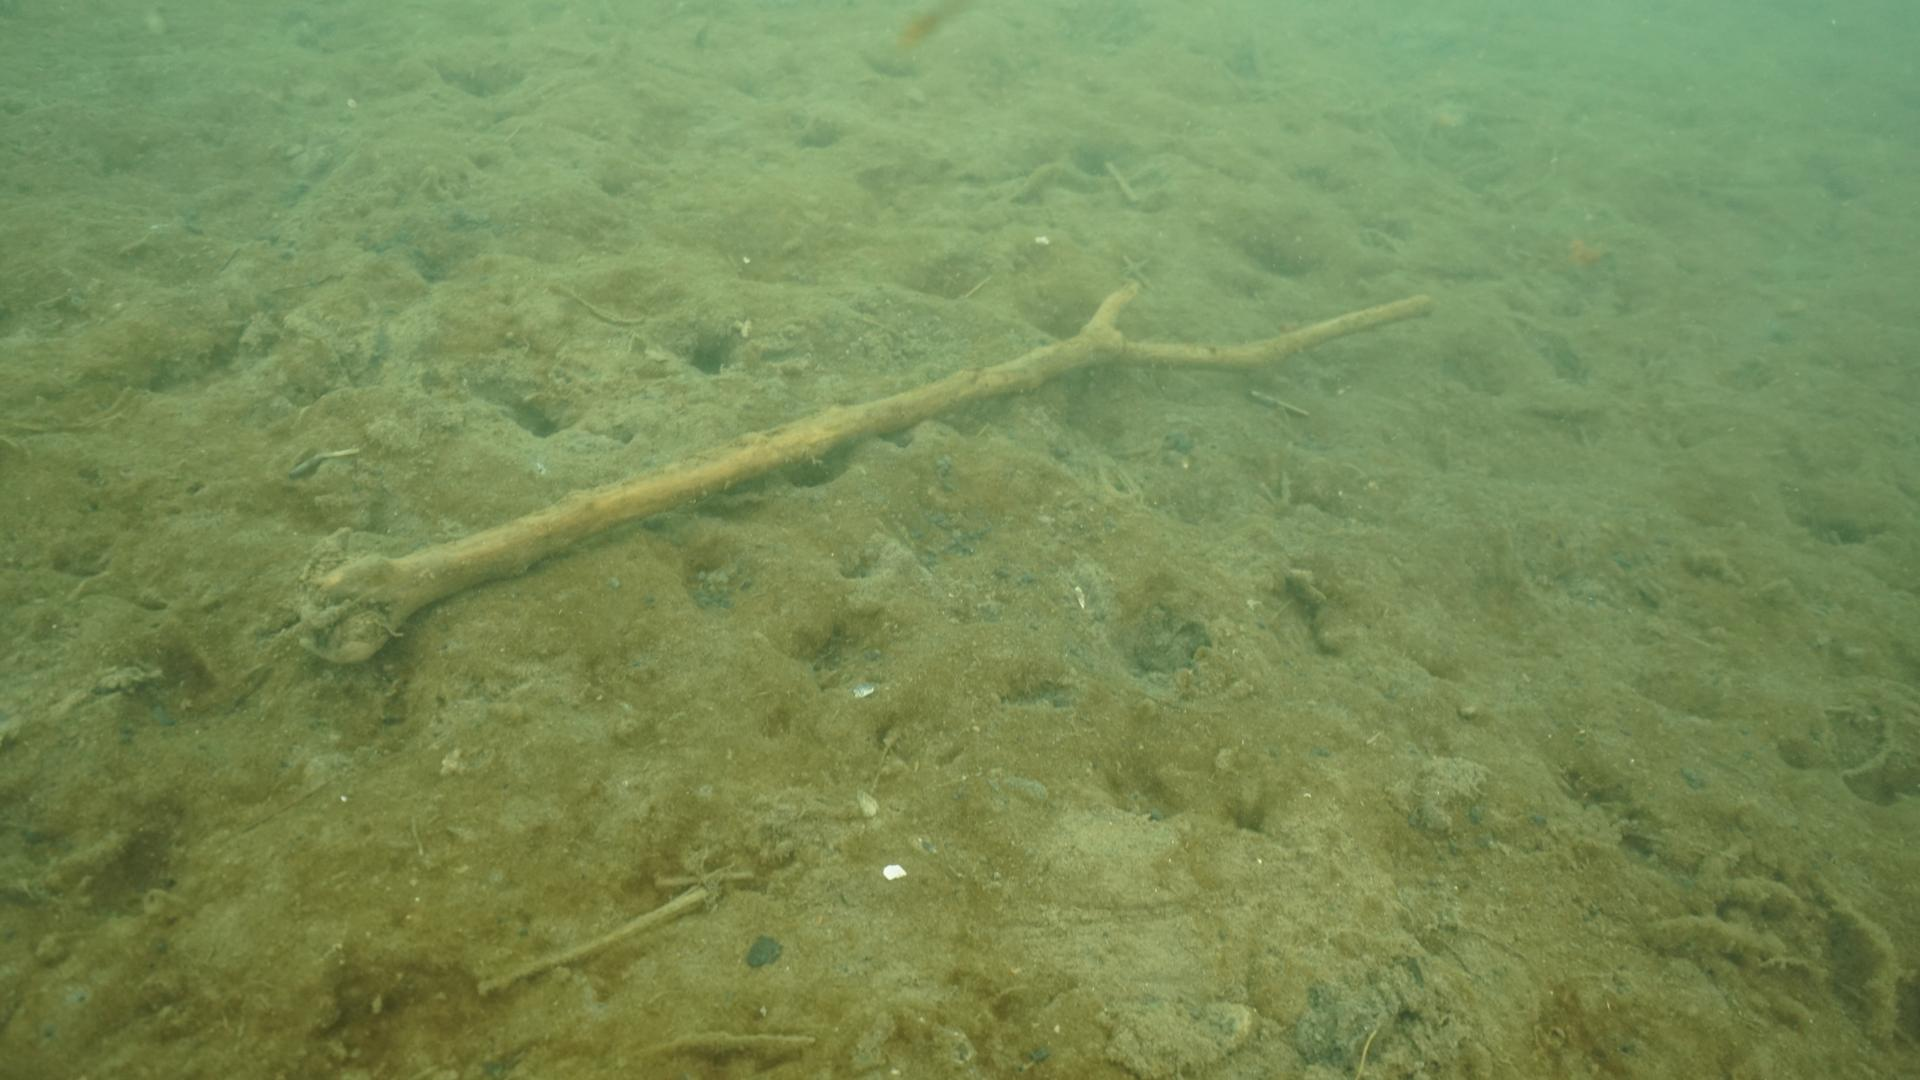wood: (287, 276, 1435, 662)
